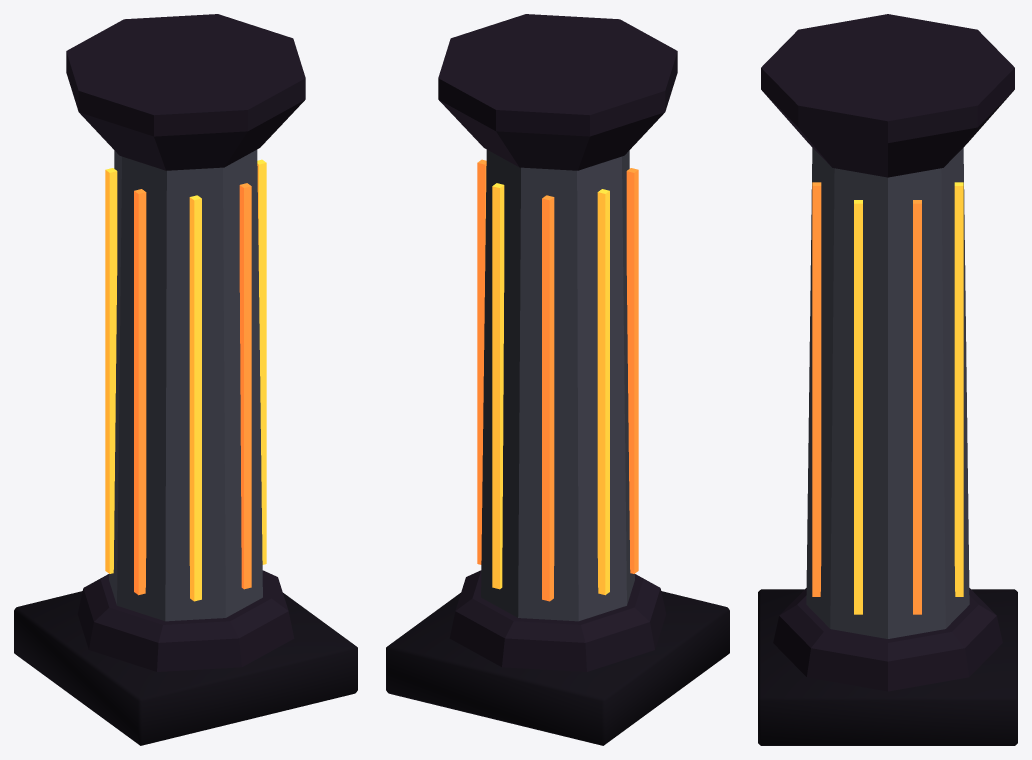
The model's file is kit_pillar_amber.glb.
The picture shows the model from 3 angles, left to right: view 1: azimuth 30°, elevation 25°; view 2: azimuth 150°, elevation 25°; view 3: azimuth 270°, elevation 25°; orthographic projection. The views are drawn at different scales.
Parts seen in each view (by area): view 1: kit_pillar_amber; view 2: kit_pillar_amber; view 3: kit_pillar_amber.
Part boxes in pixels (box(x1,y1,x2,y2)): kit_pillar_amber: box(14, 14, 357, 745); kit_pillar_amber: box(386, 14, 729, 745); kit_pillar_amber: box(758, 14, 1017, 745).
Bounding box in the file's own units: 0.86 × 2.28 × 0.86.
